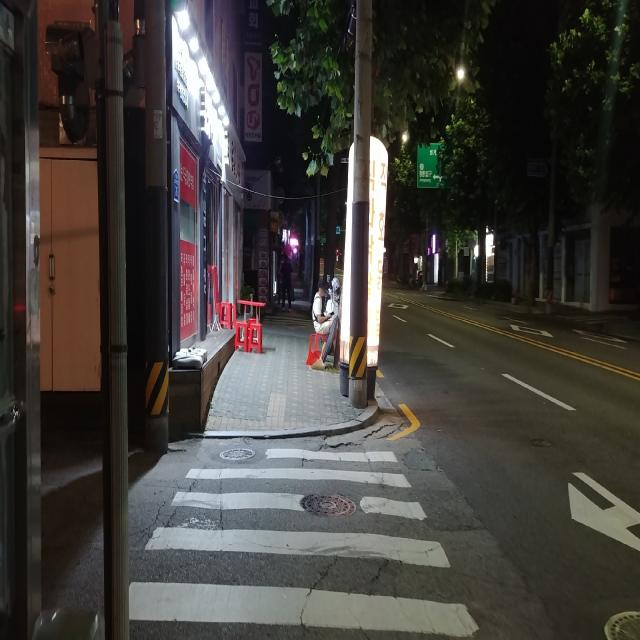횡단보도: (126, 445, 481, 640)
